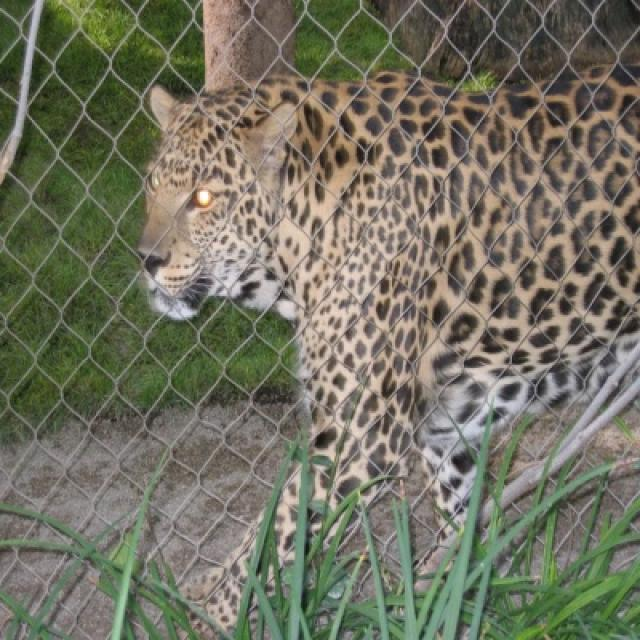Jaguar: (133, 62, 638, 568)
